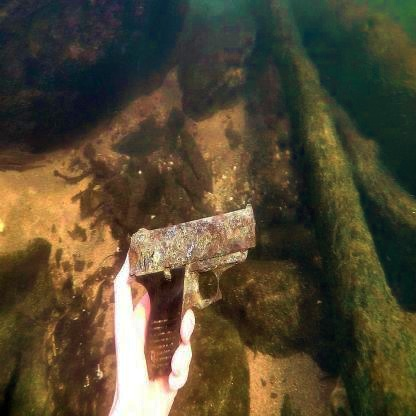misc: (129, 205, 257, 381)
